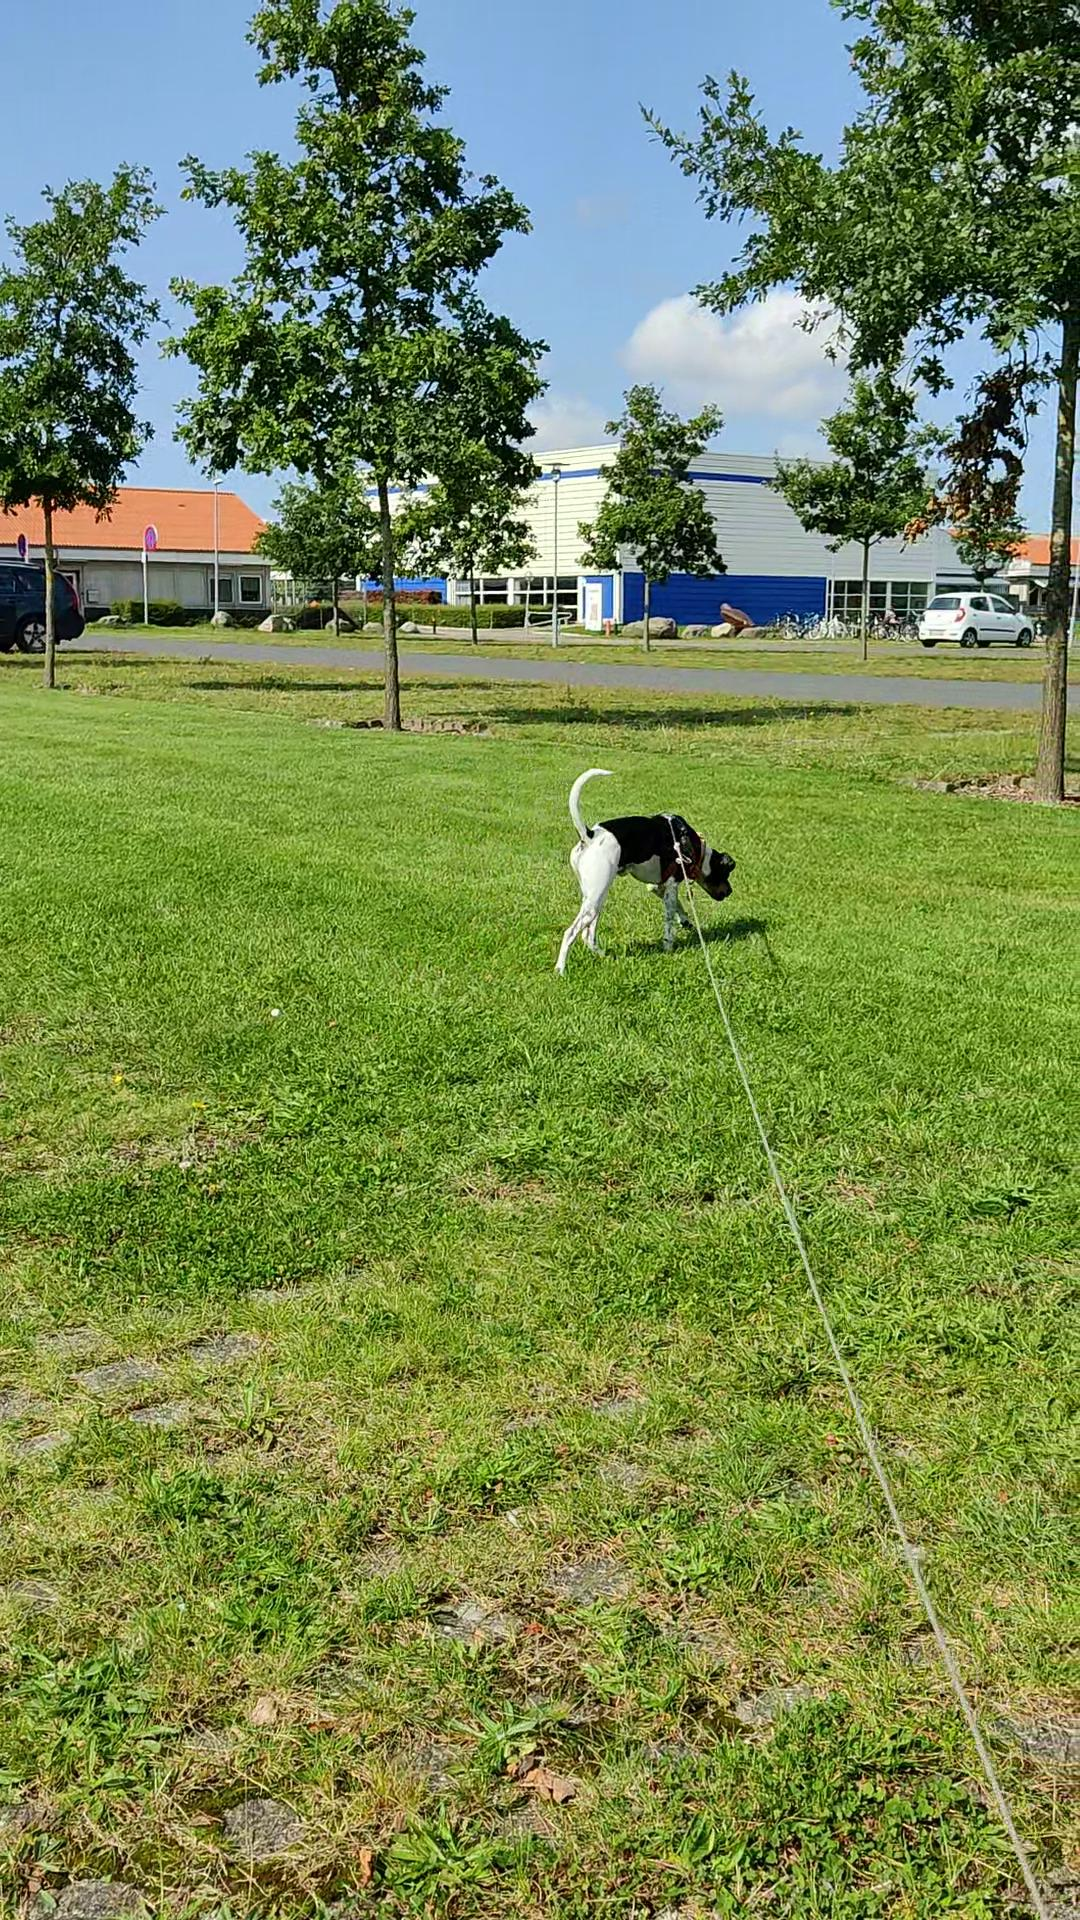Dog: (549, 764, 744, 976)
